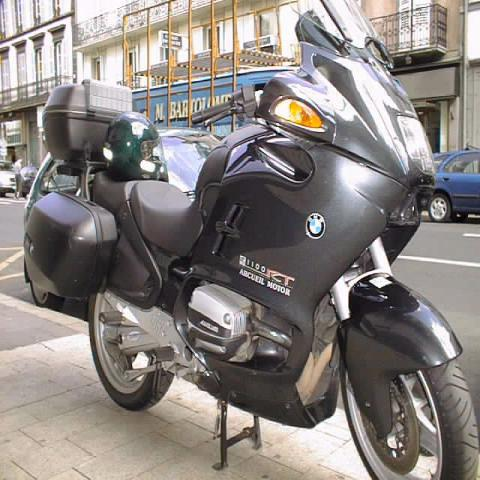car: (23, 126, 222, 313), (430, 148, 479, 222), (0, 160, 17, 198)
motorcycle: (19, 1, 480, 475)
